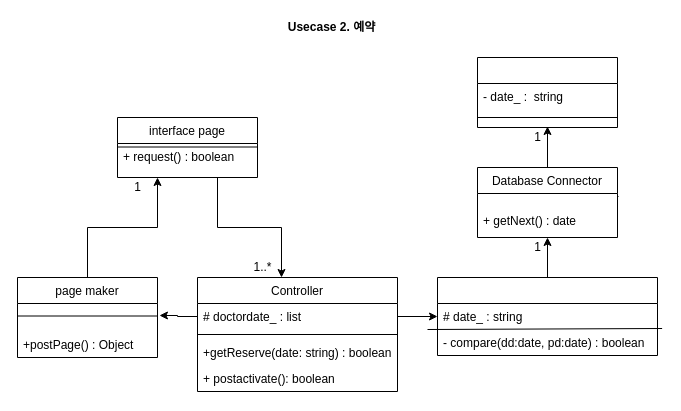
This 681x411 diagram has some shape labels left out. The shapes that lost their labels are listed below. From the top down, each one's box as (x1, y1, x2, y2) in pixels, then its label:
(476, 56, 618, 128): Database
(436, 276, 658, 356): reservation
